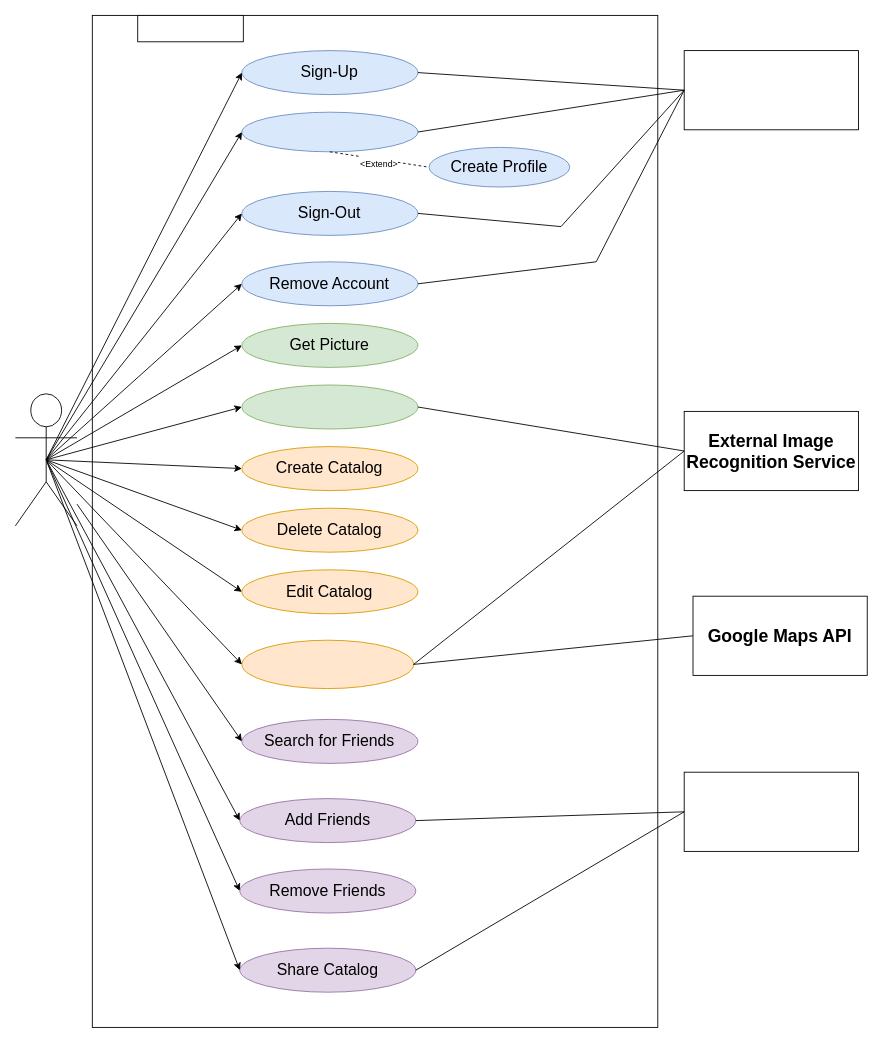
This 883x1043 diagram has some shape labels left out. Here are the shapes that lost their labels. From the top down, the centre of each, then its label:
(x=190, y=28): Bio-Track
(x=770, y=90): External Authentication Service
(x=329, y=131): Sign-In
(x=329, y=406): Scan Picture
(x=46, y=459): User
(x=327, y=664): Catalog Scanned Picture
(x=770, y=811): Push Notification Service
